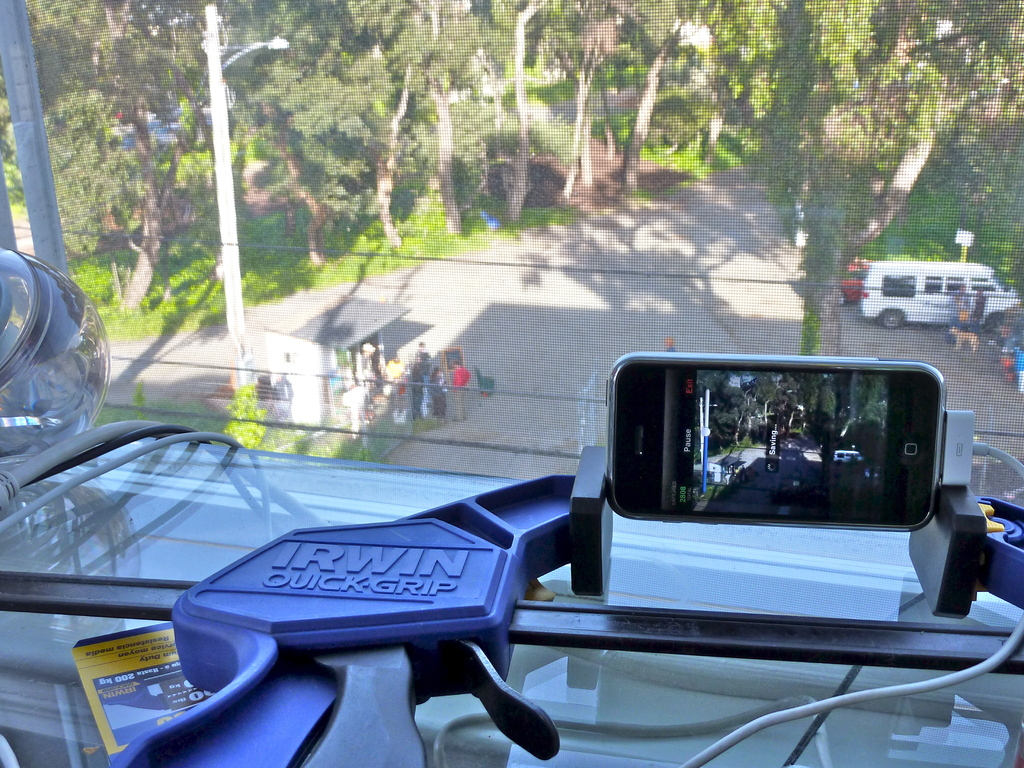Mobile-phone: (605, 351, 945, 532)
